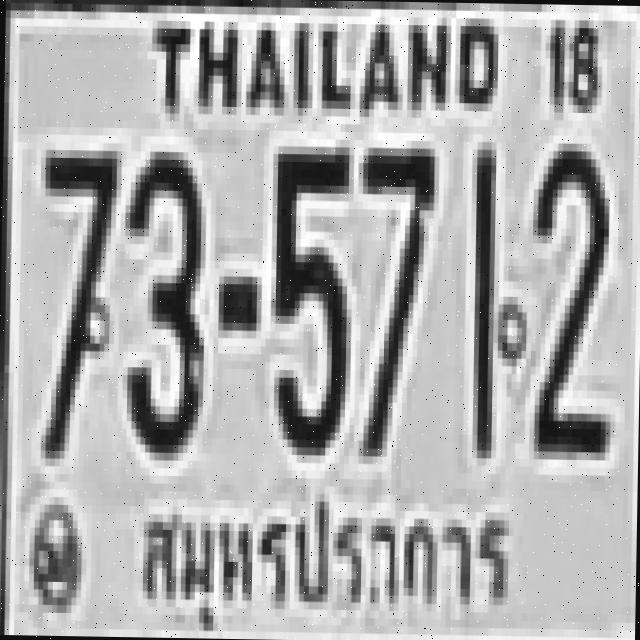1: (467, 142, 496, 450)
2: (526, 142, 608, 452)
3: (121, 142, 202, 452)
5: (268, 138, 349, 448)
7: (36, 141, 117, 451), (356, 140, 432, 450), (38, 142, 118, 351)
SamutPrakan: (131, 467, 515, 640)
